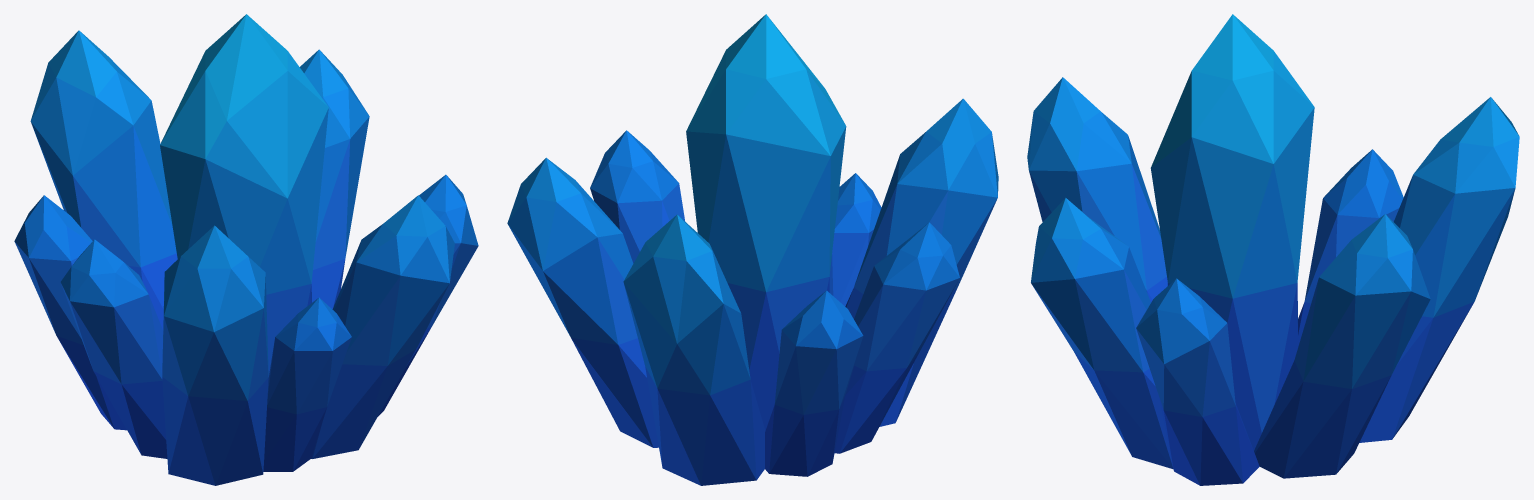
File: Crystal.obj
3 renders of one model, left to right at view 1: azimuth 30°, elevation 25°; view 2: azimuth 150°, elevation 25°; view 3: azimuth 270°, elevation 25°, orthographic. The views are drawn at different scales.
Parts seen in each view (by area): view 1: Crystal; view 2: Crystal; view 3: Crystal.
Boxes of the visible parts, x1,y1,x2,y2 form: Crystal: (14,14,478,485); Crystal: (507,14,998,485); Crystal: (1027,14,1519,485).
Size of the model in its own units: 8.19 by 8.41 by 9.09.
